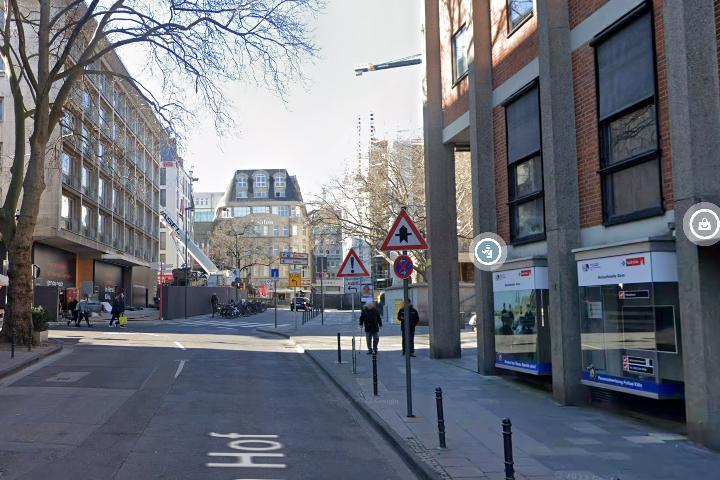google_maps: (689, 207, 720, 242), (473, 236, 505, 267)
traffic_sign: (380, 208, 429, 252), (335, 248, 370, 279), (394, 255, 413, 278)
